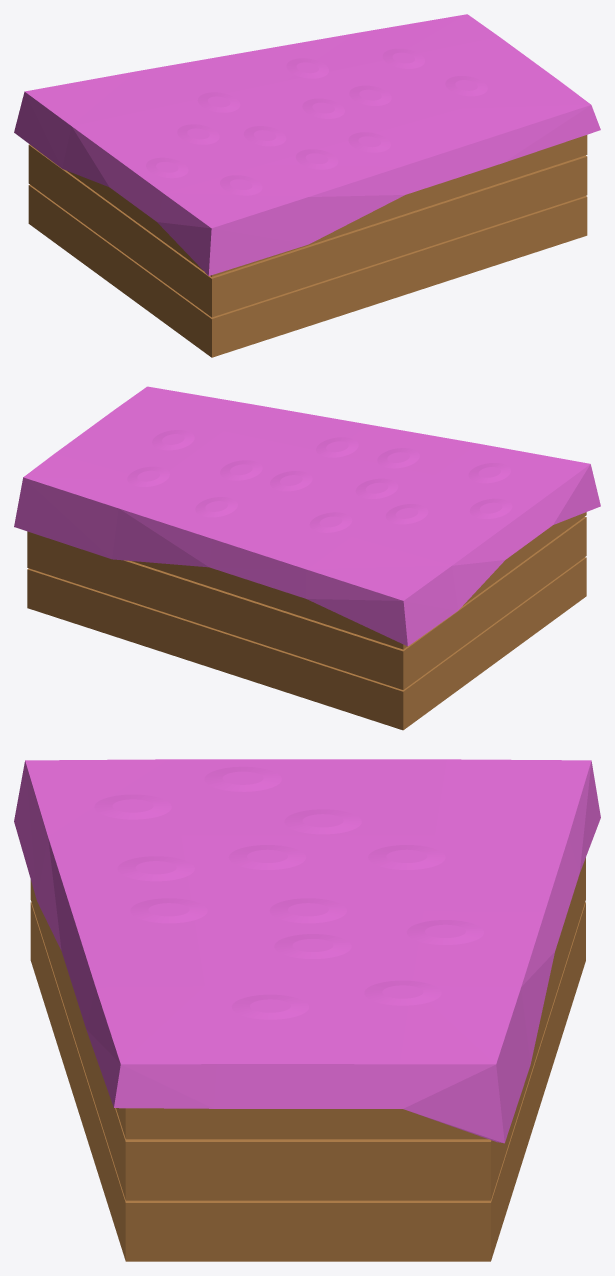
File: Cake.fbx
3 renders of one model, top to bottom at view 1: azimuth 30°, elevation 25°; view 2: azimuth 150°, elevation 25°; view 3: azimuth 270°, elevation 25°, orthographic. The views are drawn at different scales.
Visible parts, largest first — view 1: Plane; view 2: Plane; view 3: Plane.
Part boxes in pixels (x1=…): Plane: x1=14, y1=14, x2=600, y2=357; Plane: x1=14, y1=386, x2=600, y2=730; Plane: x1=14, y1=759, x2=600, y2=1261.
Size of the model in its own units: 0.3065 by 0.091 by 0.2403.
